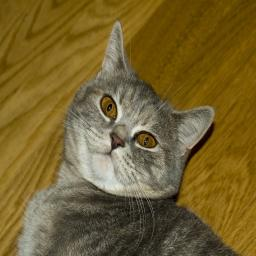catnose: (109, 130, 125, 153)
